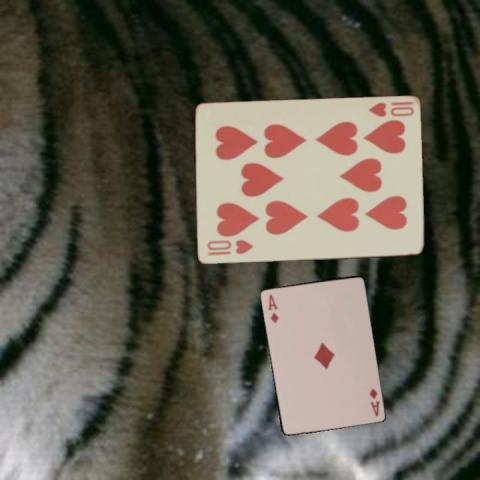10h: (203, 237, 255, 257), (366, 98, 416, 118)
Ad: (366, 385, 381, 418), (265, 291, 279, 325)
